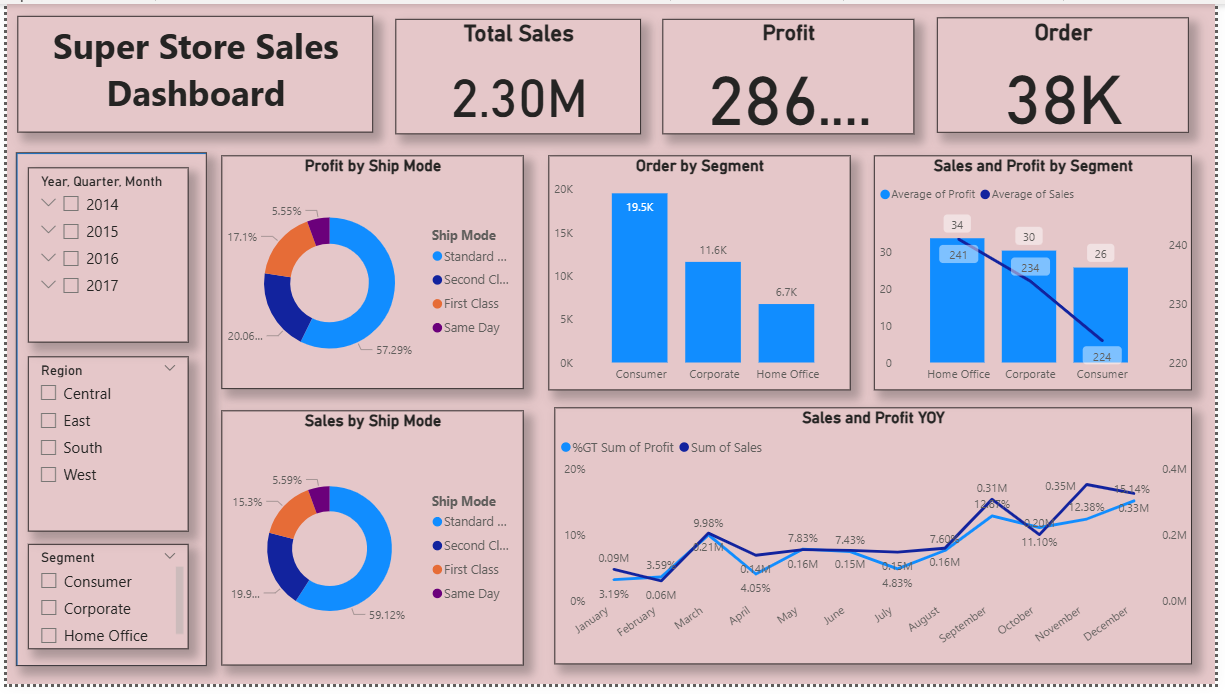

The dashboard page shown, as its layout file describes it:
{"tool":"powerbi","page":{"name":"Page 1","canvas":[1280,720],"ordinal":0},"visuals":[{"type":"textbox","box":[11.7,13.3,376.7,123.3],"z":0},{"type":"card","title":"Total Sales","fields":{"Values":["Sum(Orders.Sales)"]},"box":[411.7,16.7,260,121.7],"z":1000},{"type":"card","title":"Profit","fields":{"Values":["Sum(Orders.Profit)"]},"box":[695,16.7,266.7,121.7],"z":2000},{"type":"card","title":"Order","fields":{"Values":["Sum(Orders.Quantity)"]},"box":[985,15,266.7,121.7],"z":3000},{"type":"shape","box":[9.4,156.9,202.2,544.3],"z":4000},{"type":"slicer","fields":{"Values":["Orders.Order Date.Variation.Date Hierarchy.Year","Orders.Order Date.Variation.Date Hierarchy.Quarter","Orders.Order Date.Variation.Date Hierarchy.Month"]},"box":[22.7,173.9,170.1,185.2],"z":5000},{"type":"slicer","fields":{"Values":["Orders.Region"]},"box":[22.7,374.2,170.1,185.2],"z":6000},{"type":"slicer","fields":{"Values":["Orders.Segment"]},"box":[22.7,572.6,170.1,111.5],"z":7000},{"type":"donutChart","title":"Sales by Ship Mode","fields":{"Category":["Orders.Ship Mode"],"Y":["Sum(Orders.Sales)"]},"box":[227.5,430,320,270],"z":8000},{"type":"donutChart","title":"Profit by Ship Mode","fields":{"Y":["Sum(Orders.Profit)"],"Category":["Orders.Ship Mode"]},"box":[227.5,160,320,247.5],"z":9000},{"type":"columnChart","title":"Order by Segment","fields":{"Category":["Orders.Segment"],"Y":["Sum(Orders.Quantity)"]},"box":[573.3,160,320,248.3],"z":10000},{"type":"lineClusteredColumnComboChart","title":"Sales and Profit by Segment","fields":{"Category":["Orders.Segment"],"Y":["Avg(Orders.Profit)"],"Y2":["Avg(Orders.Sales)"]},"box":[918.3,160,336.7,248.3],"z":11000},{"type":"lineChart","title":"Sales and Profit YOY","fields":{"Y":["Sum(Orders.Profit)"],"Category":["Orders.Order Date.Variation.Date Hierarchy.Month"],"Y2":["Sum(Orders.Sales)"]},"box":[580,428.3,675,271.7],"z":12000}]}

Visuals, with their boxes in screenshot pixels (x1, y1, x2, y2), scaled from the page's 1280x720 canvas onto the 1225x694 screenshot:
textbox: Rect(11, 13, 372, 132)
"Total Sales" card: Rect(394, 16, 643, 133)
"Profit" card: Rect(665, 16, 920, 133)
"Order" card: Rect(943, 14, 1198, 132)
shape: Rect(9, 151, 203, 676)
slicer - Orders.Order Date.Variation.Date Hierarchy.Year x Orders.Order Date.Variation.Date Hierarchy.Quarter: Rect(22, 168, 185, 346)
slicer - Orders.Region: Rect(22, 361, 185, 539)
slicer - Orders.Segment: Rect(22, 552, 185, 659)
"Sales by Ship Mode" donutChart: Rect(218, 414, 524, 675)
"Profit by Ship Mode" donutChart: Rect(218, 154, 524, 393)
"Order by Segment" columnChart: Rect(549, 154, 855, 394)
"Sales and Profit by Segment" lineClusteredColumnComboChart: Rect(879, 154, 1201, 394)
"Sales and Profit YOY" lineChart: Rect(555, 413, 1201, 675)
